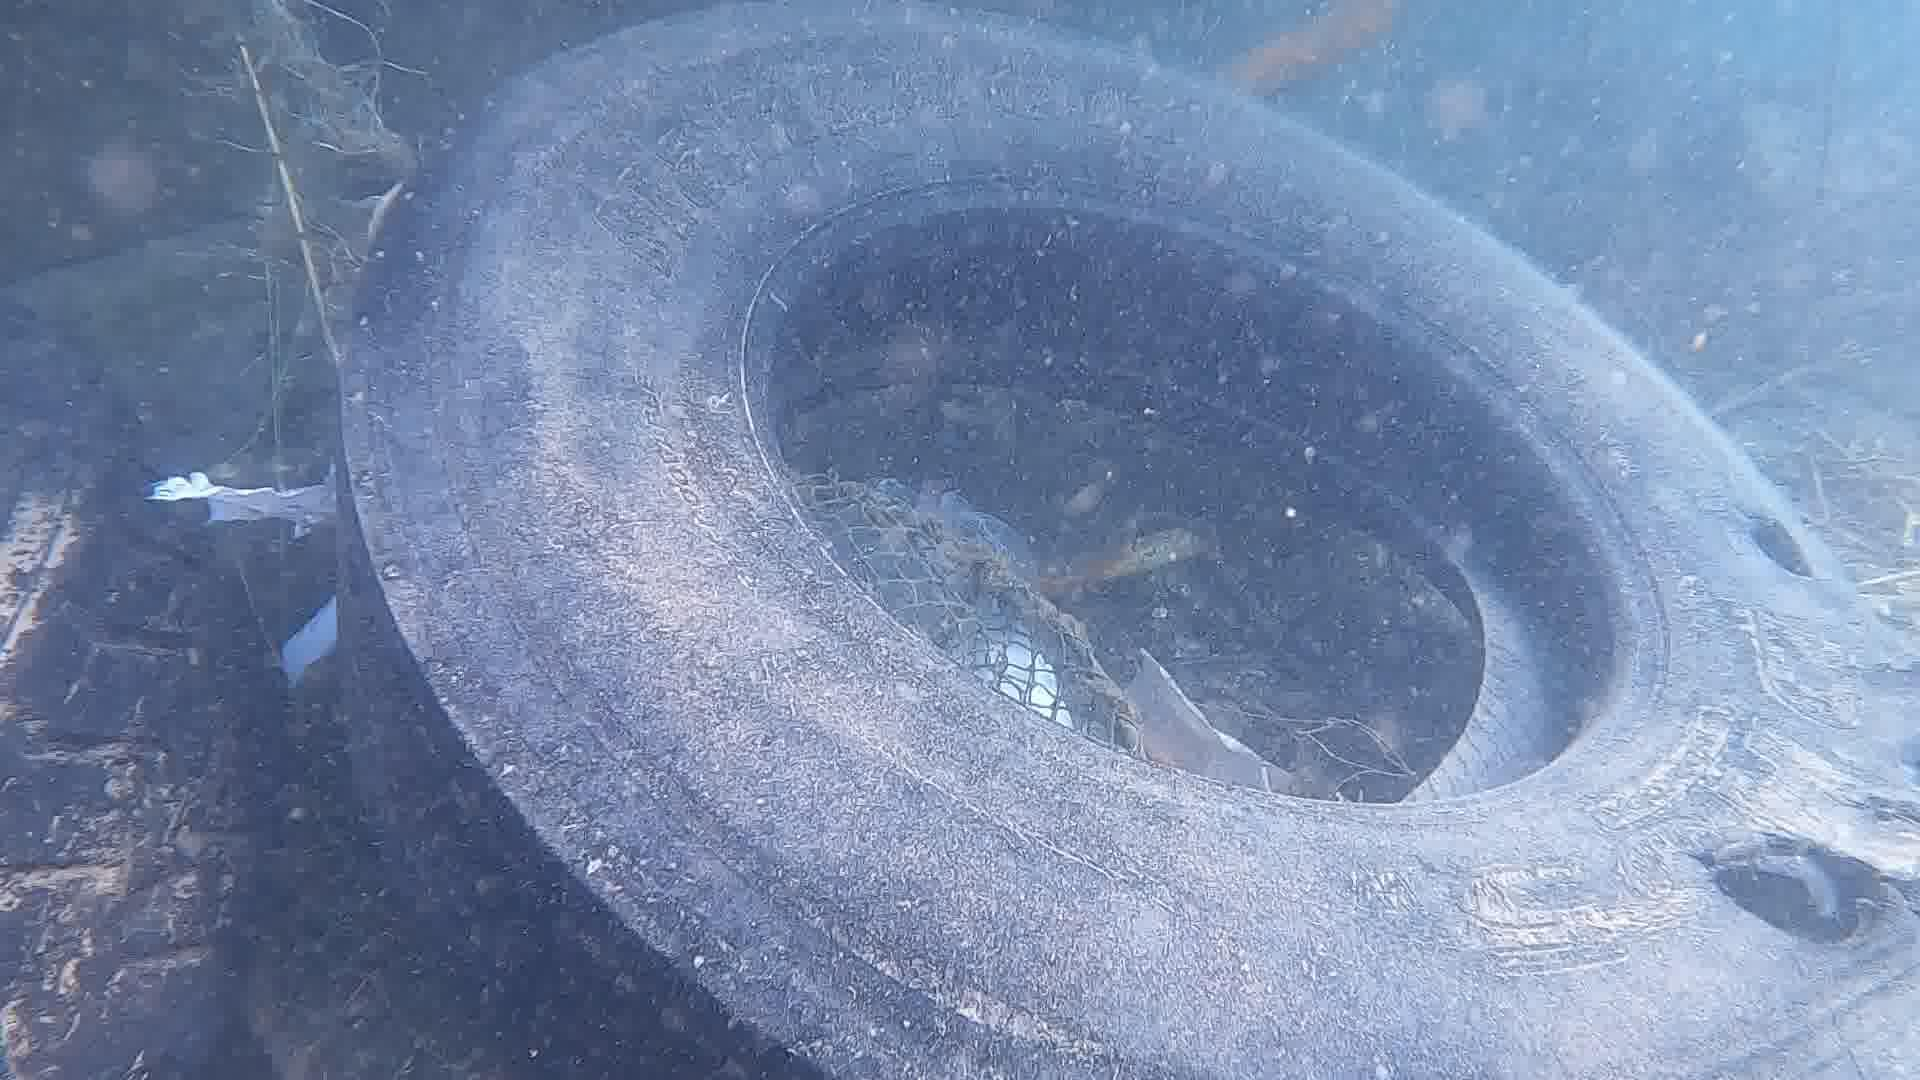fish net: (786, 476, 1143, 761)
tire: (335, 0, 1920, 1080)
